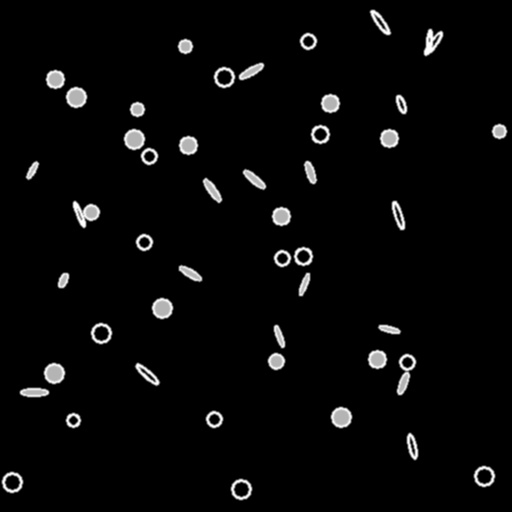pseudomonas: (134, 362, 160, 386), (369, 8, 391, 36), (201, 177, 223, 203), (242, 168, 266, 190), (423, 31, 443, 55), (238, 62, 264, 80), (178, 264, 202, 282), (391, 200, 405, 230), (72, 201, 86, 227), (303, 160, 317, 184), (396, 371, 410, 395), (298, 272, 310, 296), (406, 434, 418, 458), (273, 324, 285, 348), (25, 161, 39, 179), (395, 94, 407, 114), (20, 388, 47, 396), (379, 324, 399, 334), (57, 272, 69, 288), (426, 29, 432, 53)
synechocystis: (232, 480, 250, 498), (215, 68, 233, 86), (125, 130, 143, 148), (3, 473, 21, 491), (475, 467, 493, 485), (92, 324, 110, 342), (153, 299, 171, 317), (332, 408, 350, 426), (45, 364, 63, 382), (67, 88, 85, 106), (381, 130, 397, 146), (322, 95, 338, 111), (180, 137, 196, 153), (273, 208, 289, 224), (312, 126, 328, 142), (295, 248, 311, 264), (369, 351, 385, 367), (47, 71, 63, 87), (207, 412, 221, 426), (269, 354, 283, 368), (275, 251, 289, 265), (137, 235, 151, 249), (301, 34, 315, 48), (142, 149, 156, 163), (84, 205, 98, 219), (400, 355, 414, 369), (67, 414, 79, 426), (179, 40, 191, 52), (131, 103, 143, 115), (493, 125, 505, 137)
